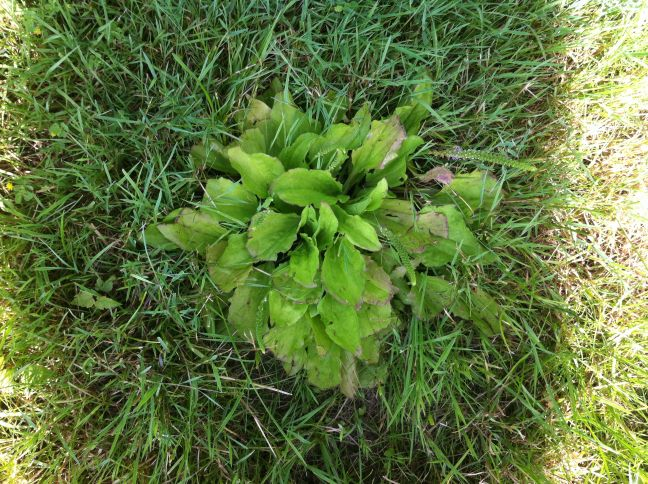weed1: (157, 90, 512, 405)
